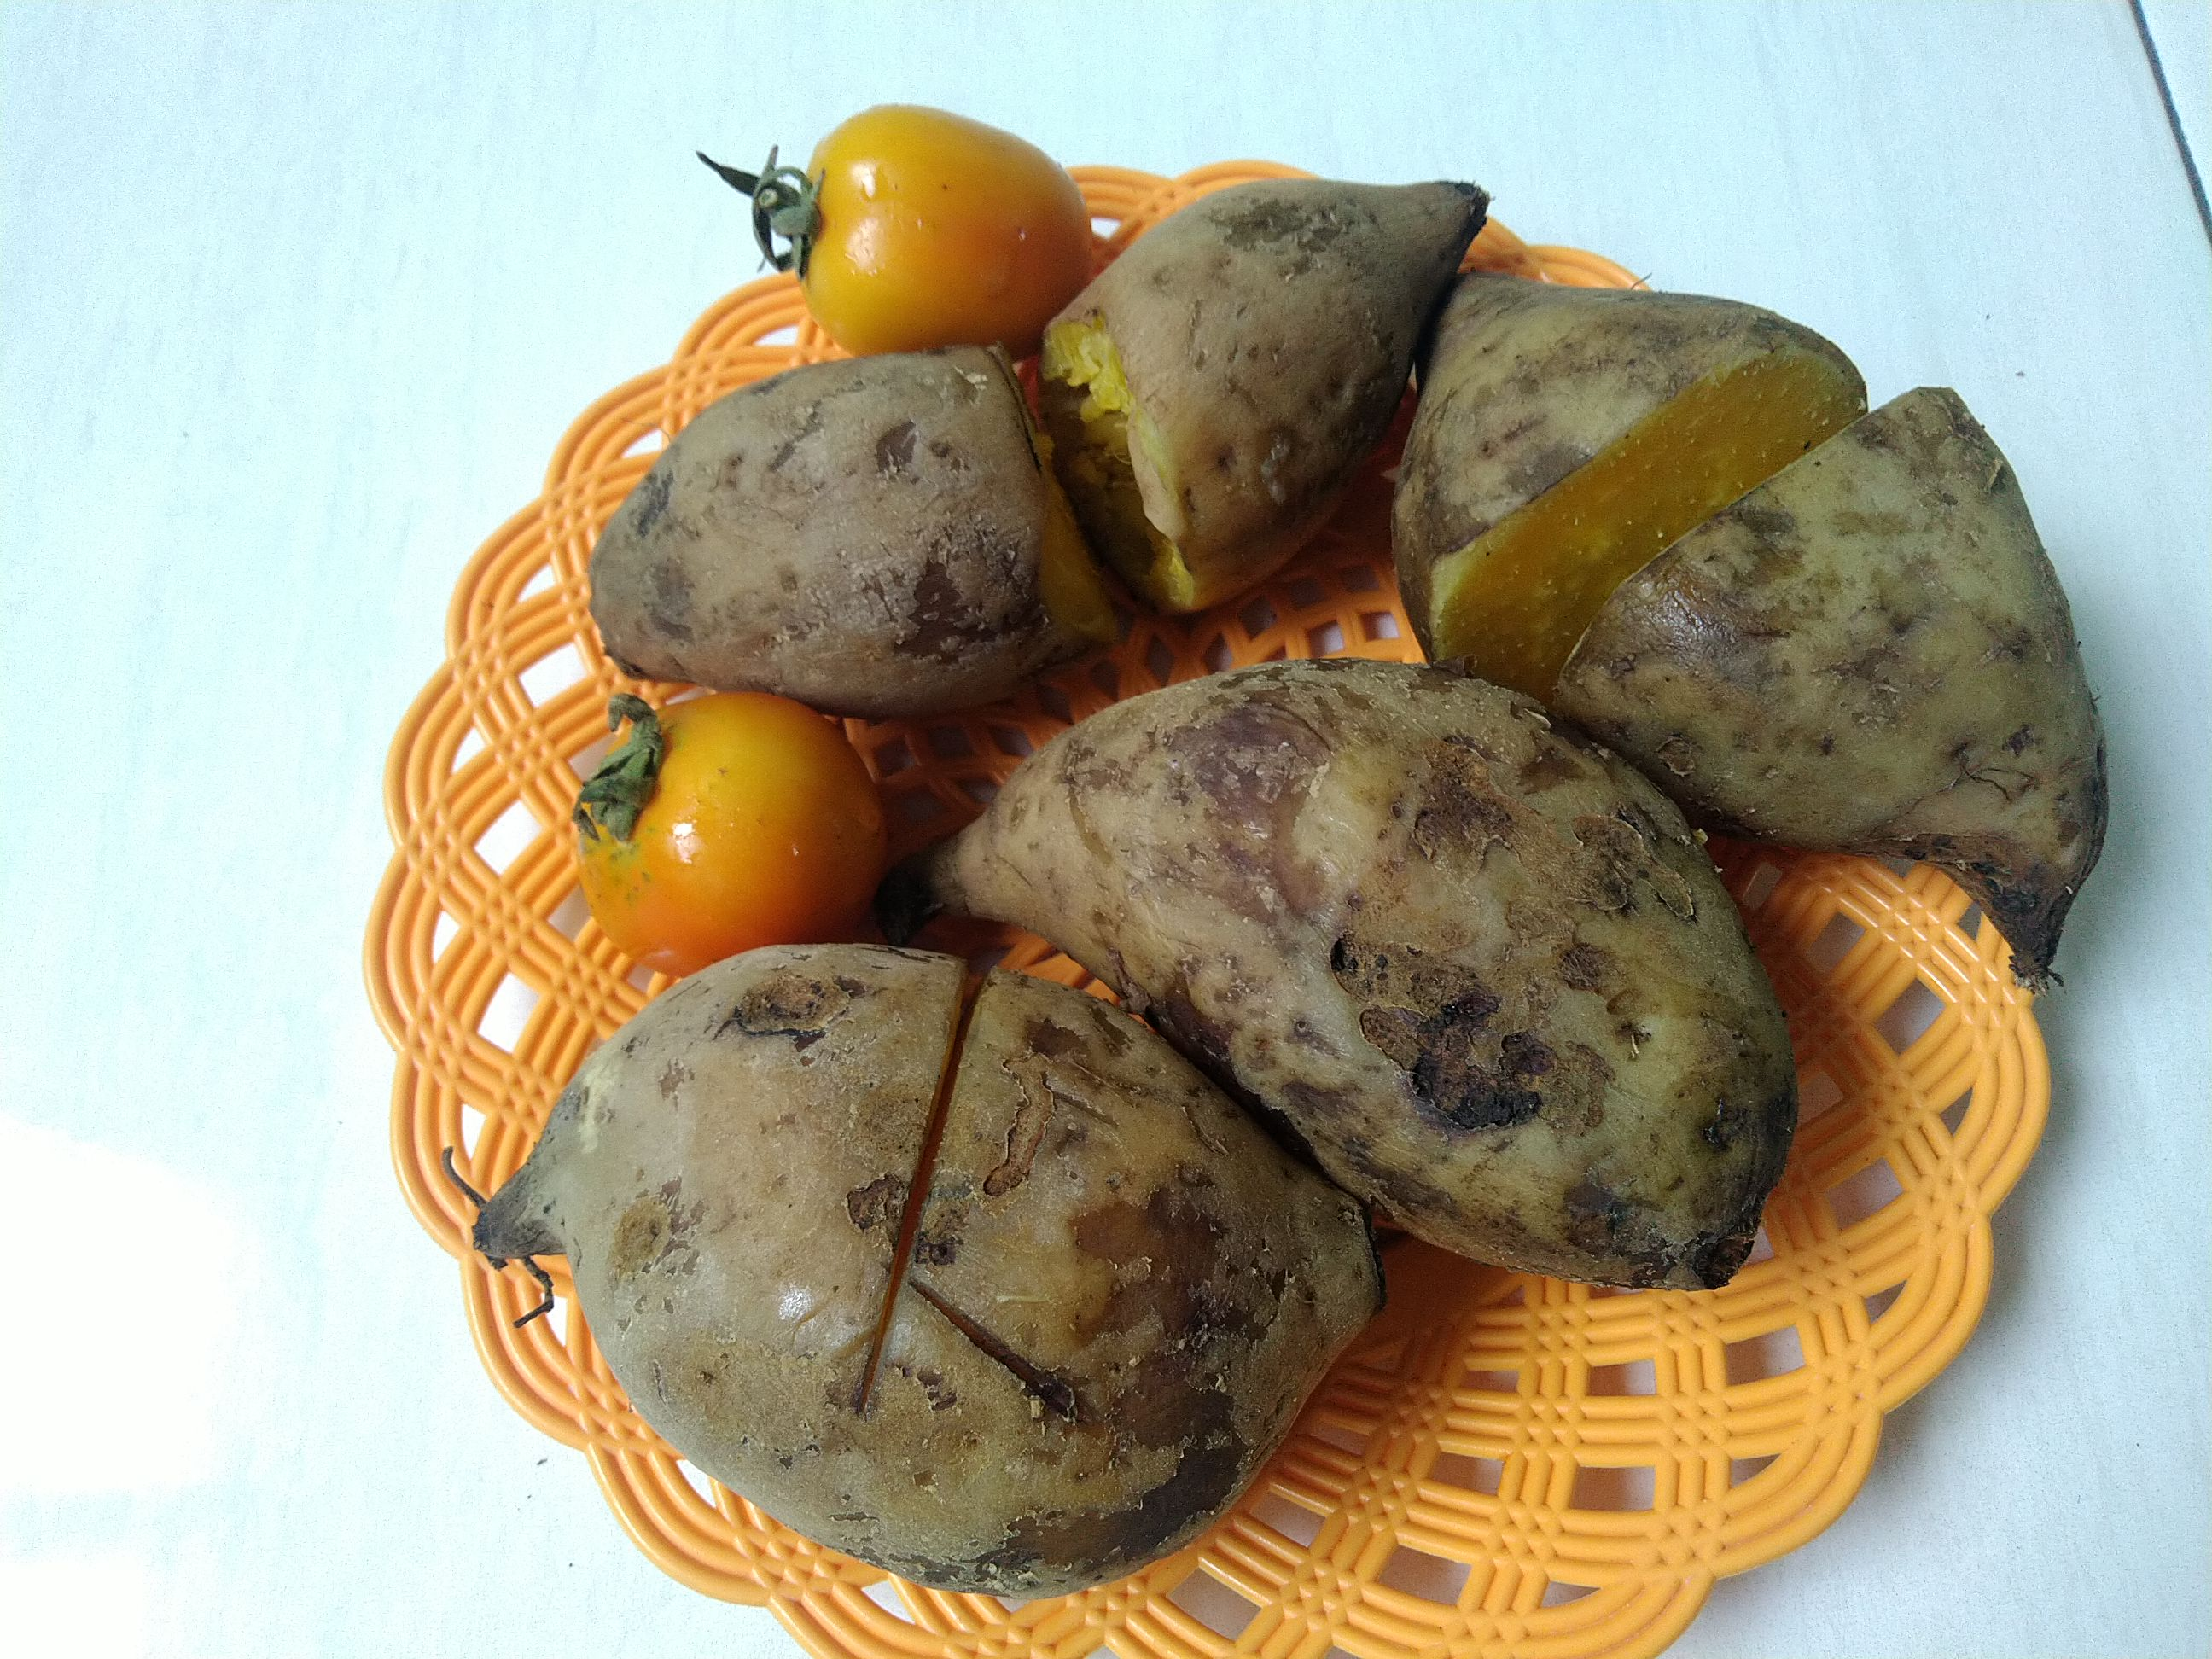ubi kuning: (444, 939, 1395, 1603), (916, 650, 1818, 1297), (1378, 249, 2102, 990), (1038, 166, 1486, 622), (564, 355, 1111, 688)
